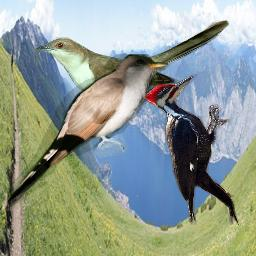Cuckoo: (0, 54, 170, 211), (35, 19, 229, 108)
Woodpecker: (141, 74, 239, 225)
